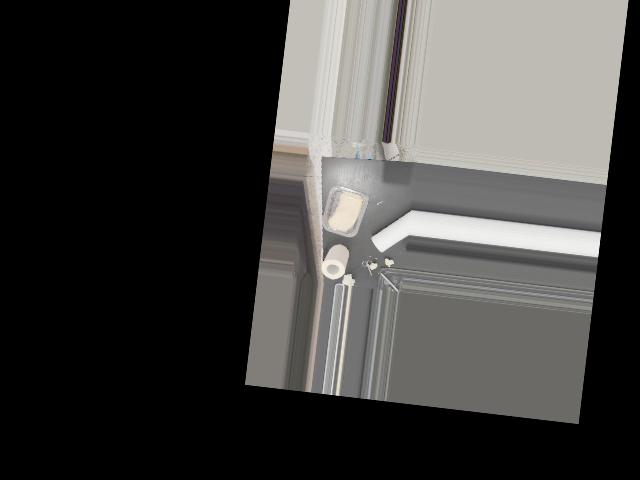cheese: (324, 184, 368, 238)
